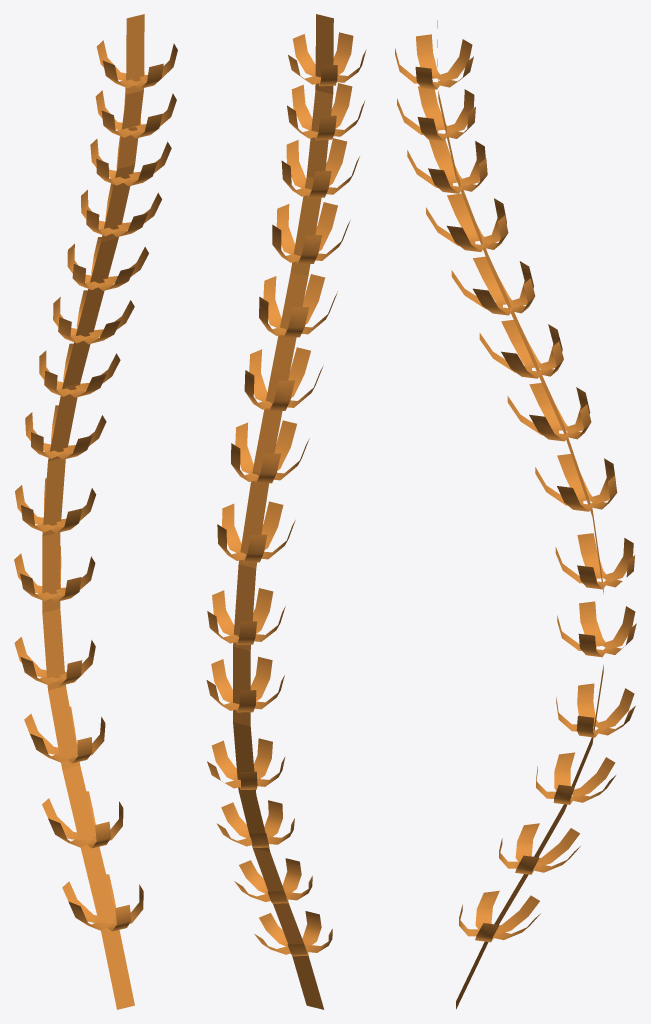
The model's file is Fiber01_amblystegium_serpens.fbx.
The picture shows the model from 3 angles, left to right: view 1: azimuth 30°, elevation 25°; view 2: azimuth 150°, elevation 25°; view 3: azimuth 270°, elevation 25°; orthographic projection.
Parts seen in each view (by area): view 1: Fiber01_amblystegium_serpens; view 2: Fiber01_amblystegium_serpens; view 3: Fiber01_amblystegium_serpens.
Part boxes in pixels (x1,y1,x2,y2): Fiber01_amblystegium_serpens: (14, 14, 177, 1009); Fiber01_amblystegium_serpens: (206, 14, 366, 1009); Fiber01_amblystegium_serpens: (395, 20, 636, 1009).
Bounding box in the file's own units: 1.85 × 24.81 × 5.51.
